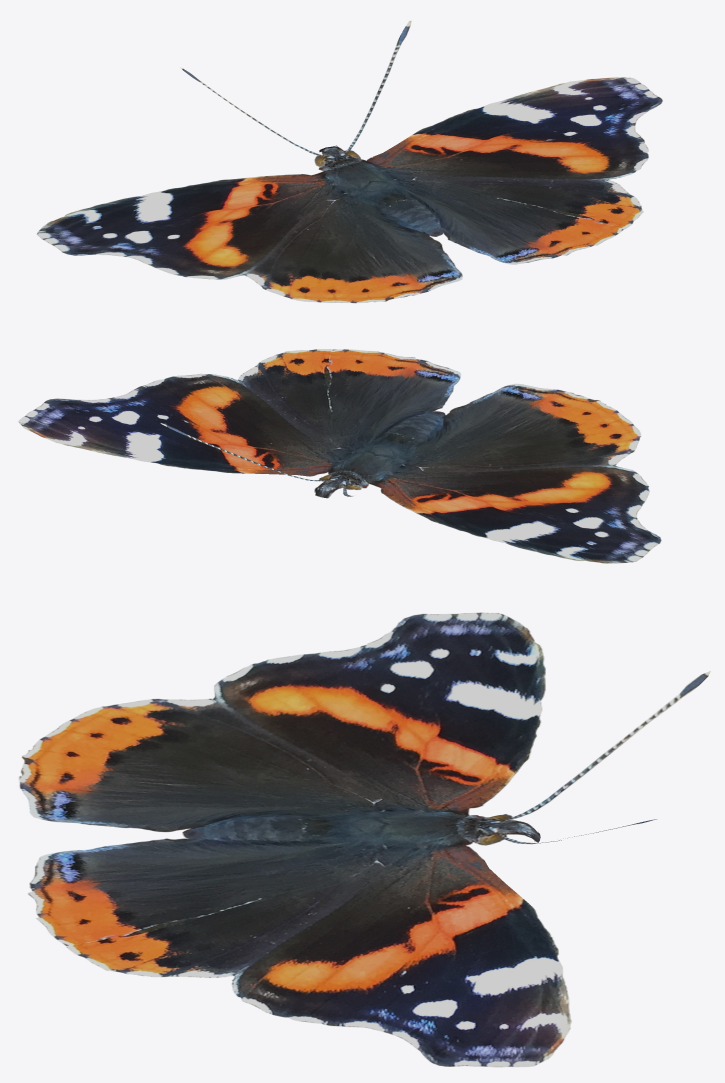
The model's file is vanessa.gltf.
3 views of the same model, one above another, from view 1: azimuth 30°, elevation 25°; view 2: azimuth 150°, elevation 25°; view 3: azimuth 270°, elevation 25° (orthographic). The views are drawn at different scales.
Parts seen in each view (by area): view 1: Plane; view 2: Plane; view 3: Plane.
Part boxes in pixels (x1=…): Plane: x1=36, y1=21, x2=662, y2=303; Plane: x1=18, y1=349, x2=661, y2=563; Plane: x1=18, y1=612, x2=710, y2=1067.
Bounding box in the file's own units: 6.73 × 0.792 × 4.27.
1 material, 1 textured.
